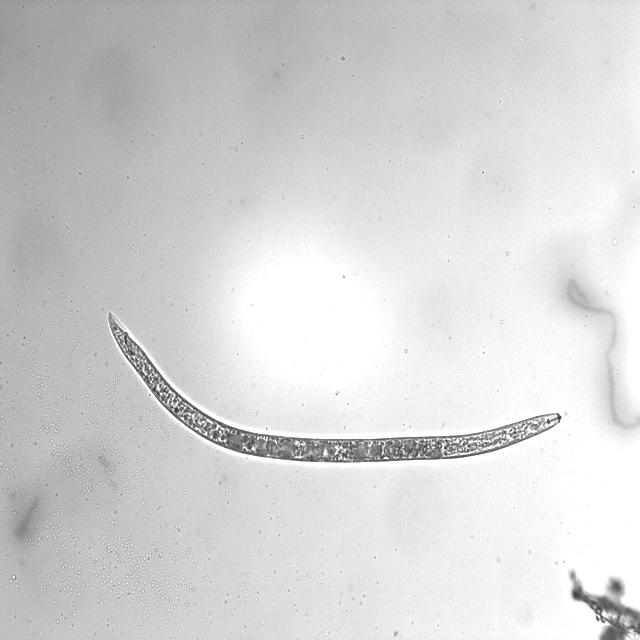Pratylenchus: (102, 308, 566, 466)
